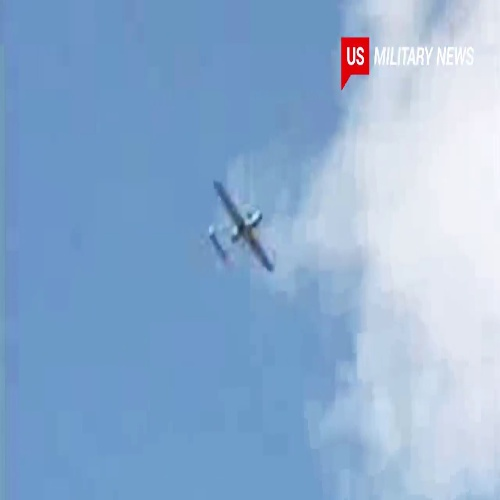uav304: (207, 179, 275, 278)
